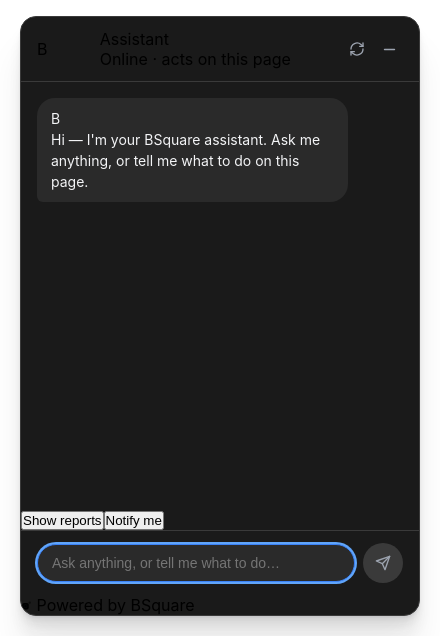
it: ChatInterface › renders suggestion chips and sends one when clicked
Click the button "Show reports" at (62, 520), box [21,511,104,530]
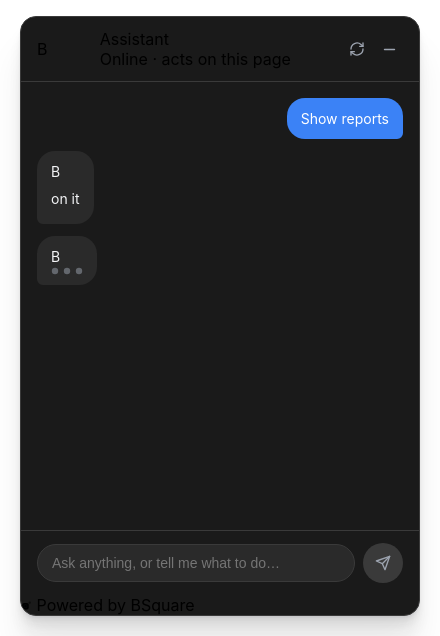
Check: the text "Show reports" is shown, box [287,98,403,139]
Check: the text "on it" is shown, box [51,188,80,209]
